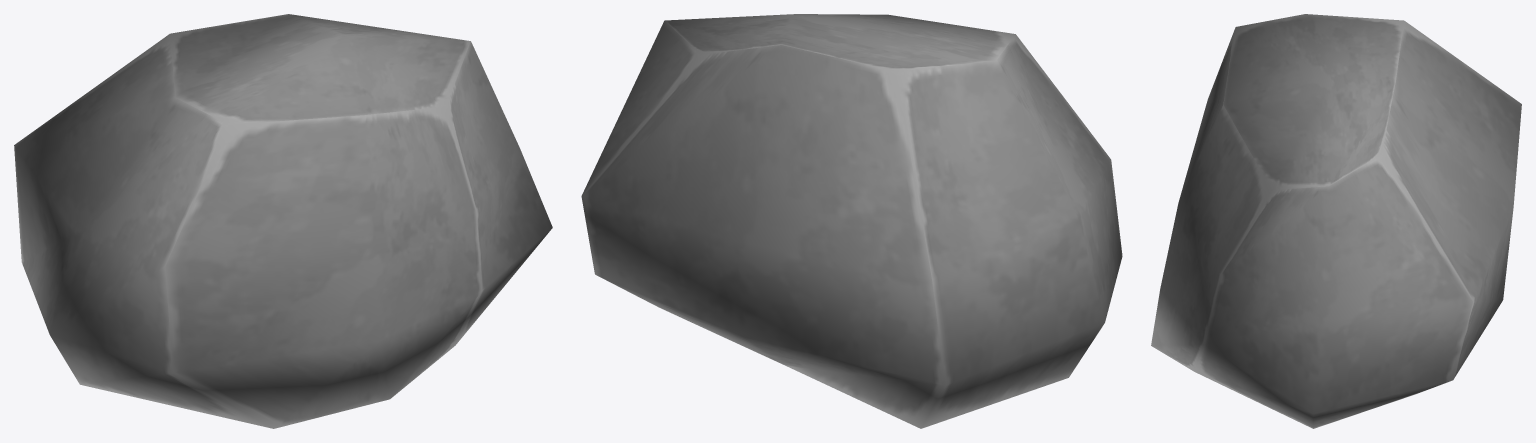
The model's file is assets_rock2.fbx.
3 renders of one model, left to right at view 1: azimuth 30°, elevation 25°; view 2: azimuth 150°, elevation 25°; view 3: azimuth 270°, elevation 25°, orthographic. The views are drawn at different scales.
Visible parts, largest first — view 1: assets_rock2; view 2: assets_rock2; view 3: assets_rock2.
Part boxes in pixels (box(x1,y1,x2,y2)): assets_rock2: box(14, 14, 552, 428); assets_rock2: box(581, 14, 1122, 428); assets_rock2: box(1151, 14, 1521, 428).
Bounding box in the file's own units: 3.52 × 2.12 × 2.35.
